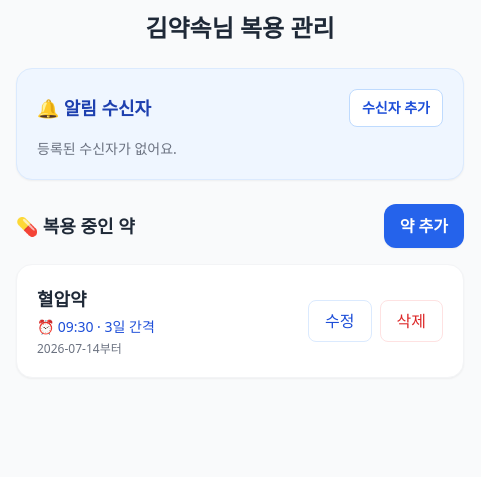
MedicineManage › 삭제 확인 뒤 성공한 항목만 목록에서 제거한다
This screenshot has width=481, height=477.
Expected: the heading "혈압약" is shown, [37,287,87,311]
Click the button with aria-label "혈압약 삭제".
click(411, 321)  # box [380,300,443,342]
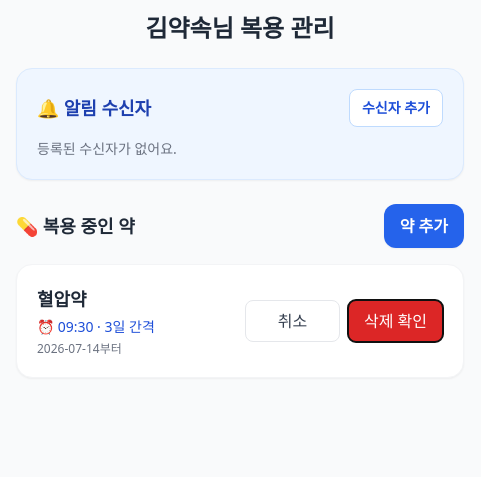
Click the button with aria-label "혈압약 삭제 확인".
click(396, 321)  # box [348,300,443,342]
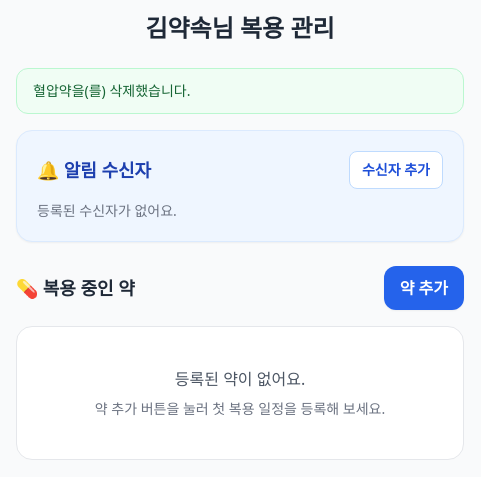
Expected: the text "등록된 약이 없어요." is shown, [175,368,305,390]
